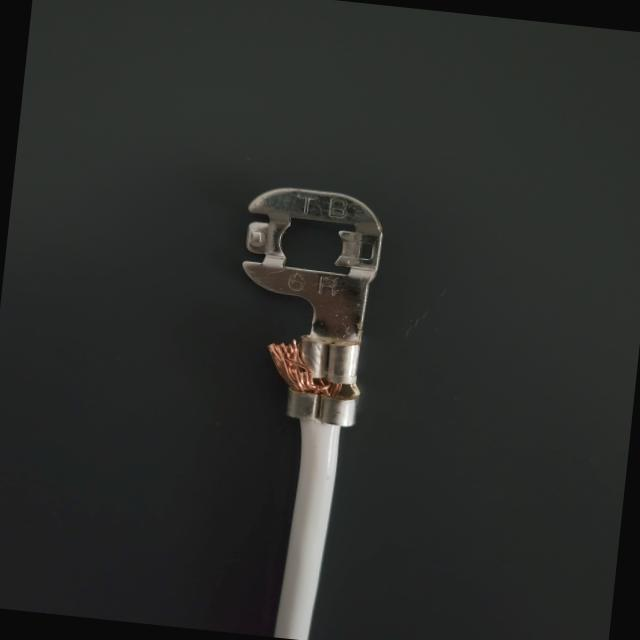defect: (245, 314, 386, 461)
